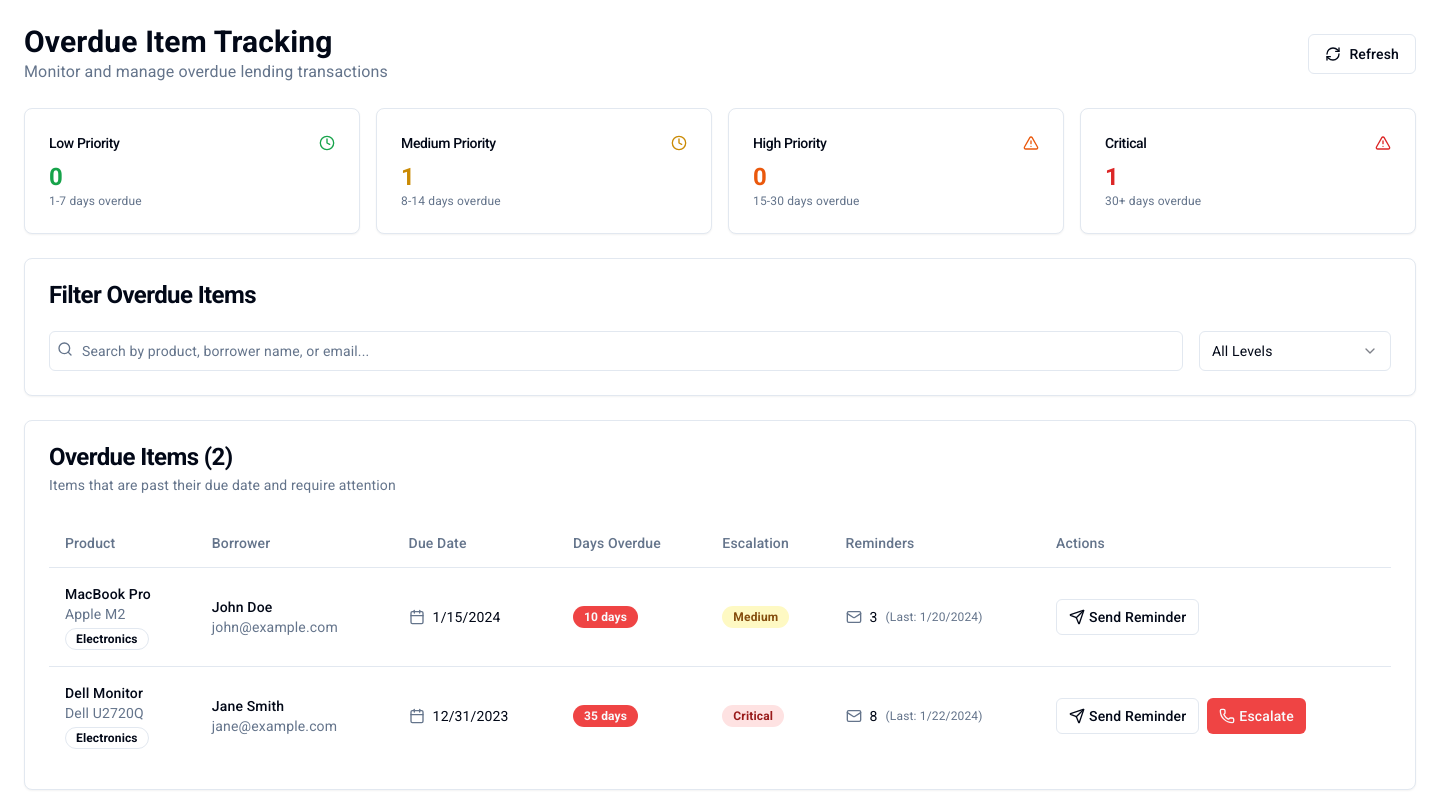
Test: OverdueTrackingDashboard › filters overdue items by search term
Expected: the heading "Overdue Item Tracking" is shown, [24,24,333,59]
Expected: the text "MacBook Pro" is shown, [65,586,151,602]
In the field with placeholder "Search by product, borrower name, or email...": (616,351) [49,331,1183,371], type "MacBook"
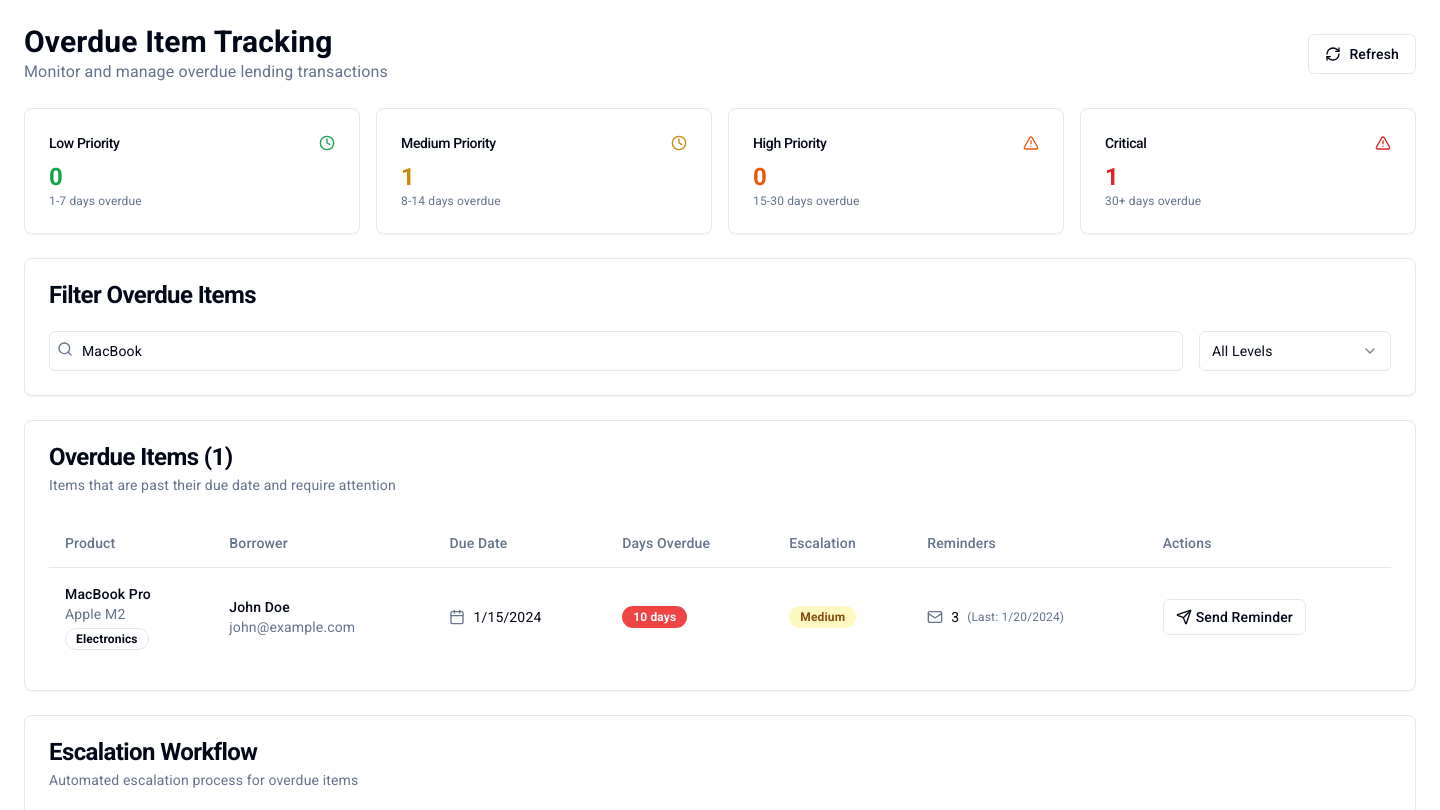
Expected: the text "MacBook Pro" is shown, [65,586,151,602]
Now the text "Dell Monitor" is gone
